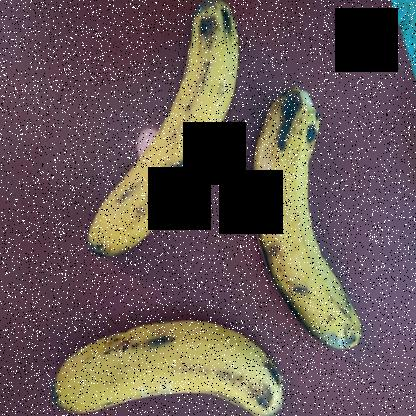ripe: (70, 1, 250, 268), (250, 60, 382, 375), (36, 302, 303, 415)
